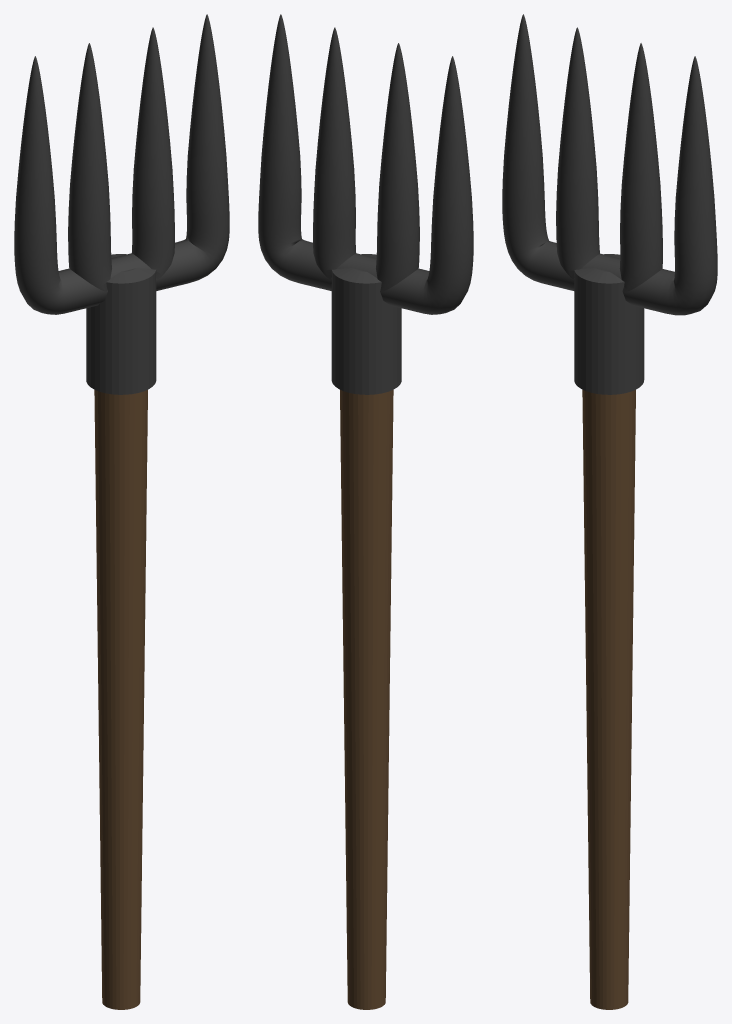
Rendered from pitchfork_1.fbx.
3 views of the same model, side by side, from view 1: azimuth 30°, elevation 25°; view 2: azimuth 150°, elevation 25°; view 3: azimuth 330°, elevation 25° (orthographic).
Visible parts, largest first — view 1: Cylinder; view 2: Cylinder; view 3: Cylinder.
Boxes of the visible parts, x1=… form: Cylinder: x1=14, y1=14, x2=229, y2=1009; Cylinder: x1=258, y1=14, x2=473, y2=1009; Cylinder: x1=502, y1=14, x2=717, y2=1009.
Size of the model in its own units: 0.7063 by 3.11 by 0.2046.
